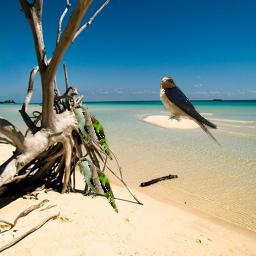Cuckoo: (68, 104, 115, 161), (74, 157, 121, 213)
Swallow: (159, 76, 226, 151)
